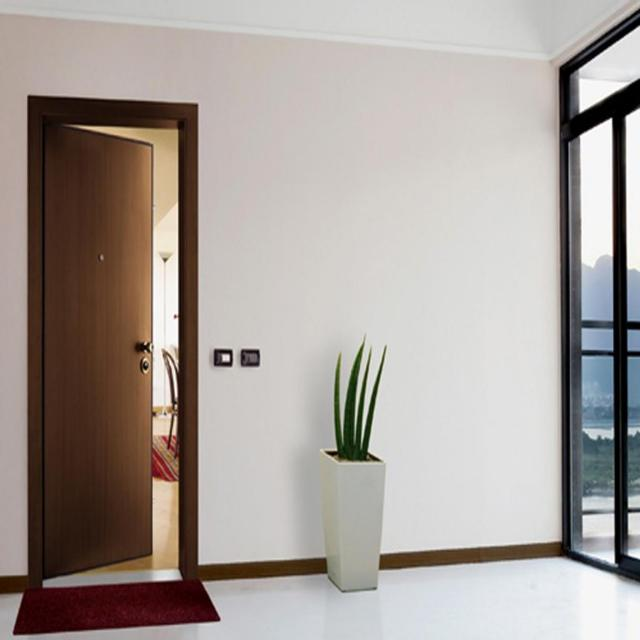open: (31, 100, 194, 581)
